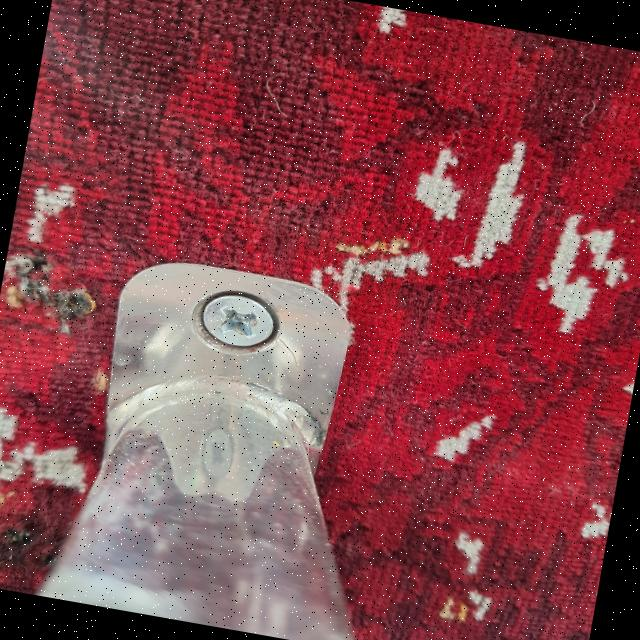Phillips: (190, 287, 282, 359)
